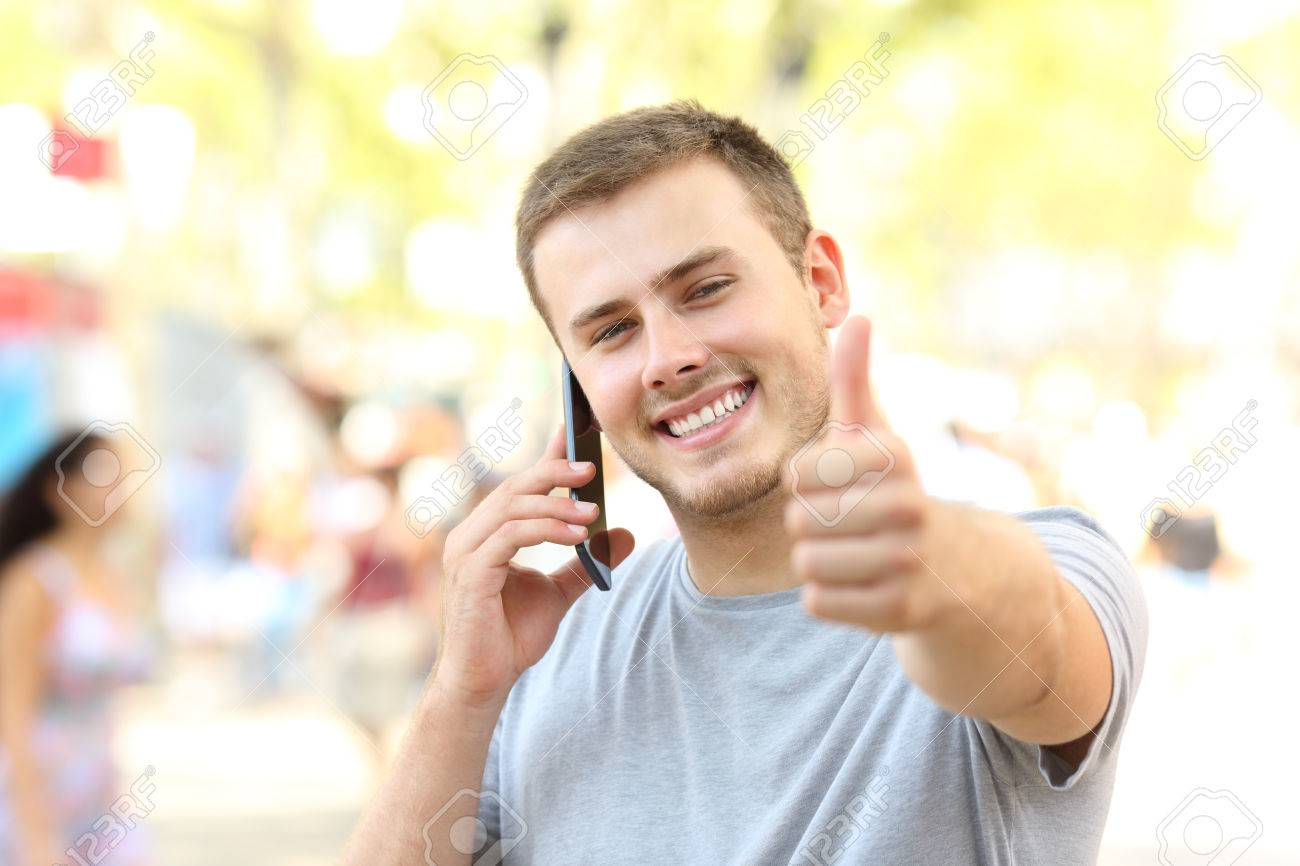phone: (532, 362, 629, 582)
talk: (418, 227, 832, 698)
